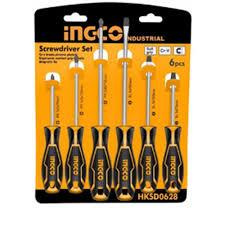screwdriver: (87, 16, 112, 201), (112, 15, 136, 201), (63, 53, 86, 193), (137, 53, 159, 193), (41, 71, 63, 193), (162, 70, 182, 192)
